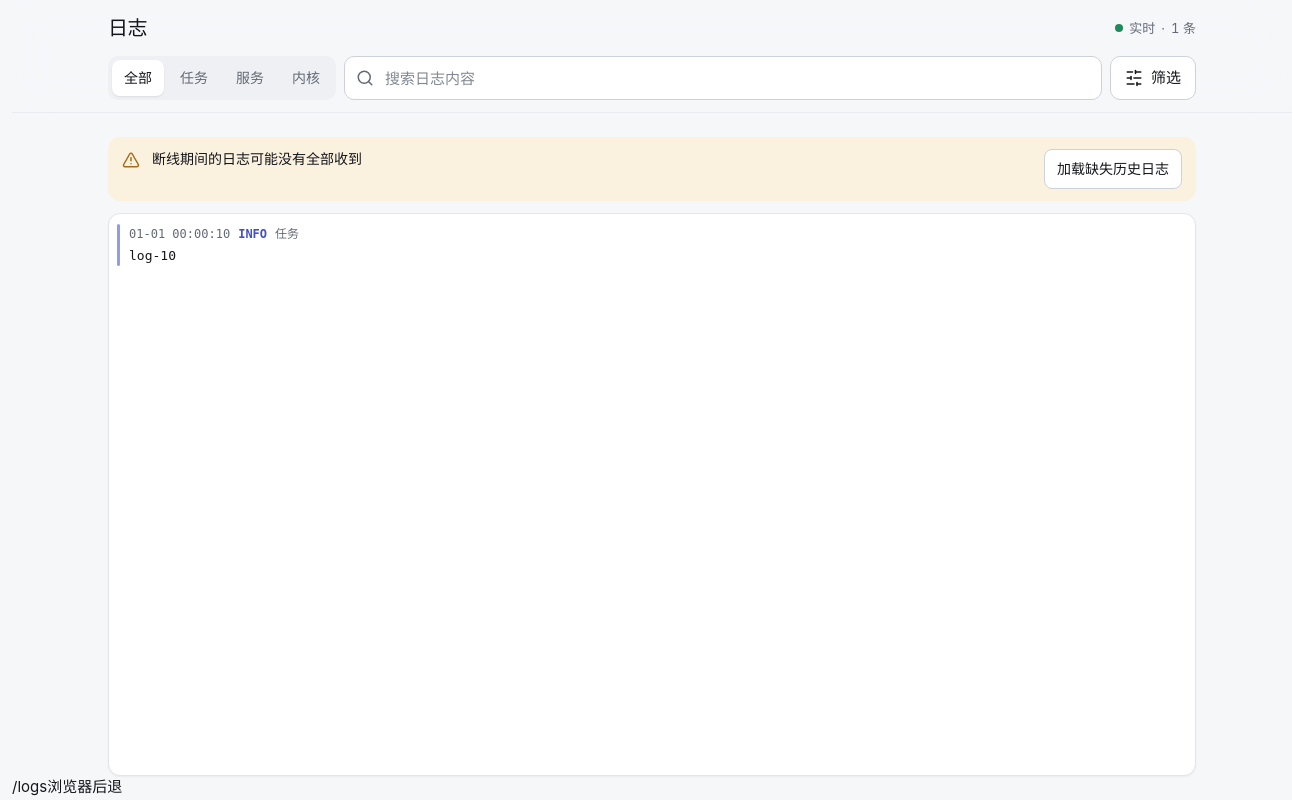
Scenario: logs page › G4 supports the truncated gap action with an after_id and live lower boundary
Expected: the message shows "断线期间的日志可能没有全部收到", [152,150,362,167]
Click the button "加载缺失历史日志" at (1113, 169), box [1044,149,1182,189]
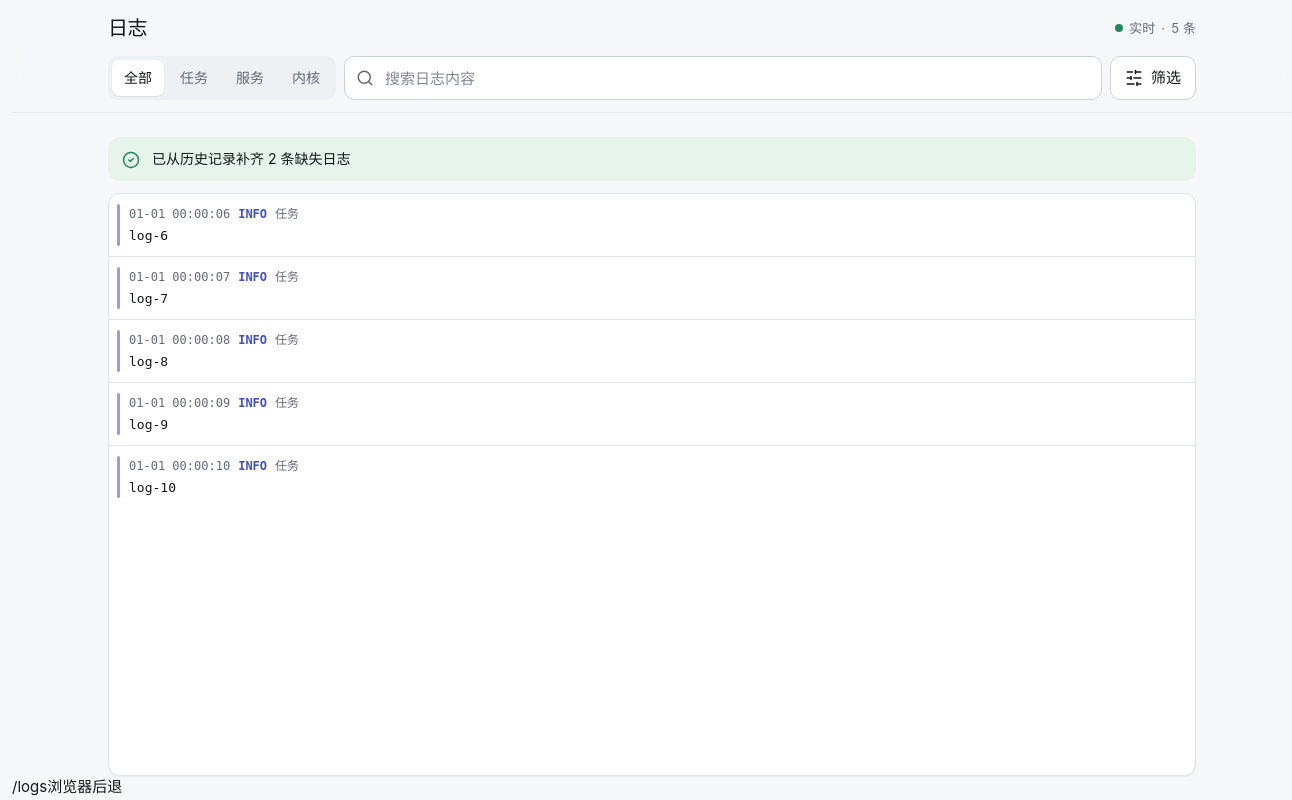
Result: the message shows "已从历史记录补齐 2 条" at [108,137,1196,181]
Result: the button "加载缺失历史日志" is gone
